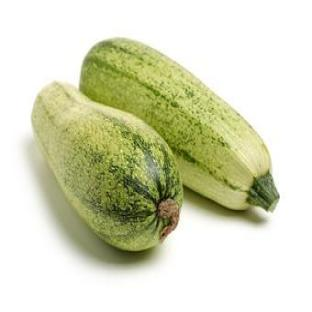Zucchini: (80, 39, 278, 211), (32, 83, 182, 250)
